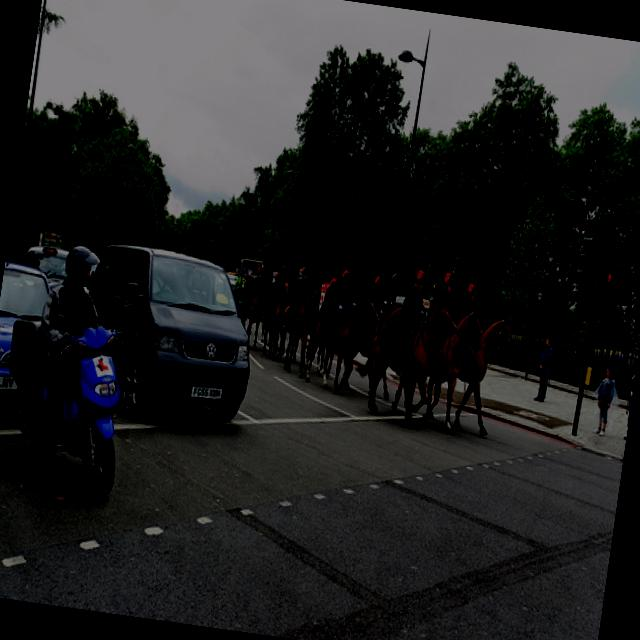Vehicle: (74, 242, 266, 432), (76, 240, 264, 434), (0, 286, 138, 499), (0, 222, 73, 411), (224, 272, 238, 292)
